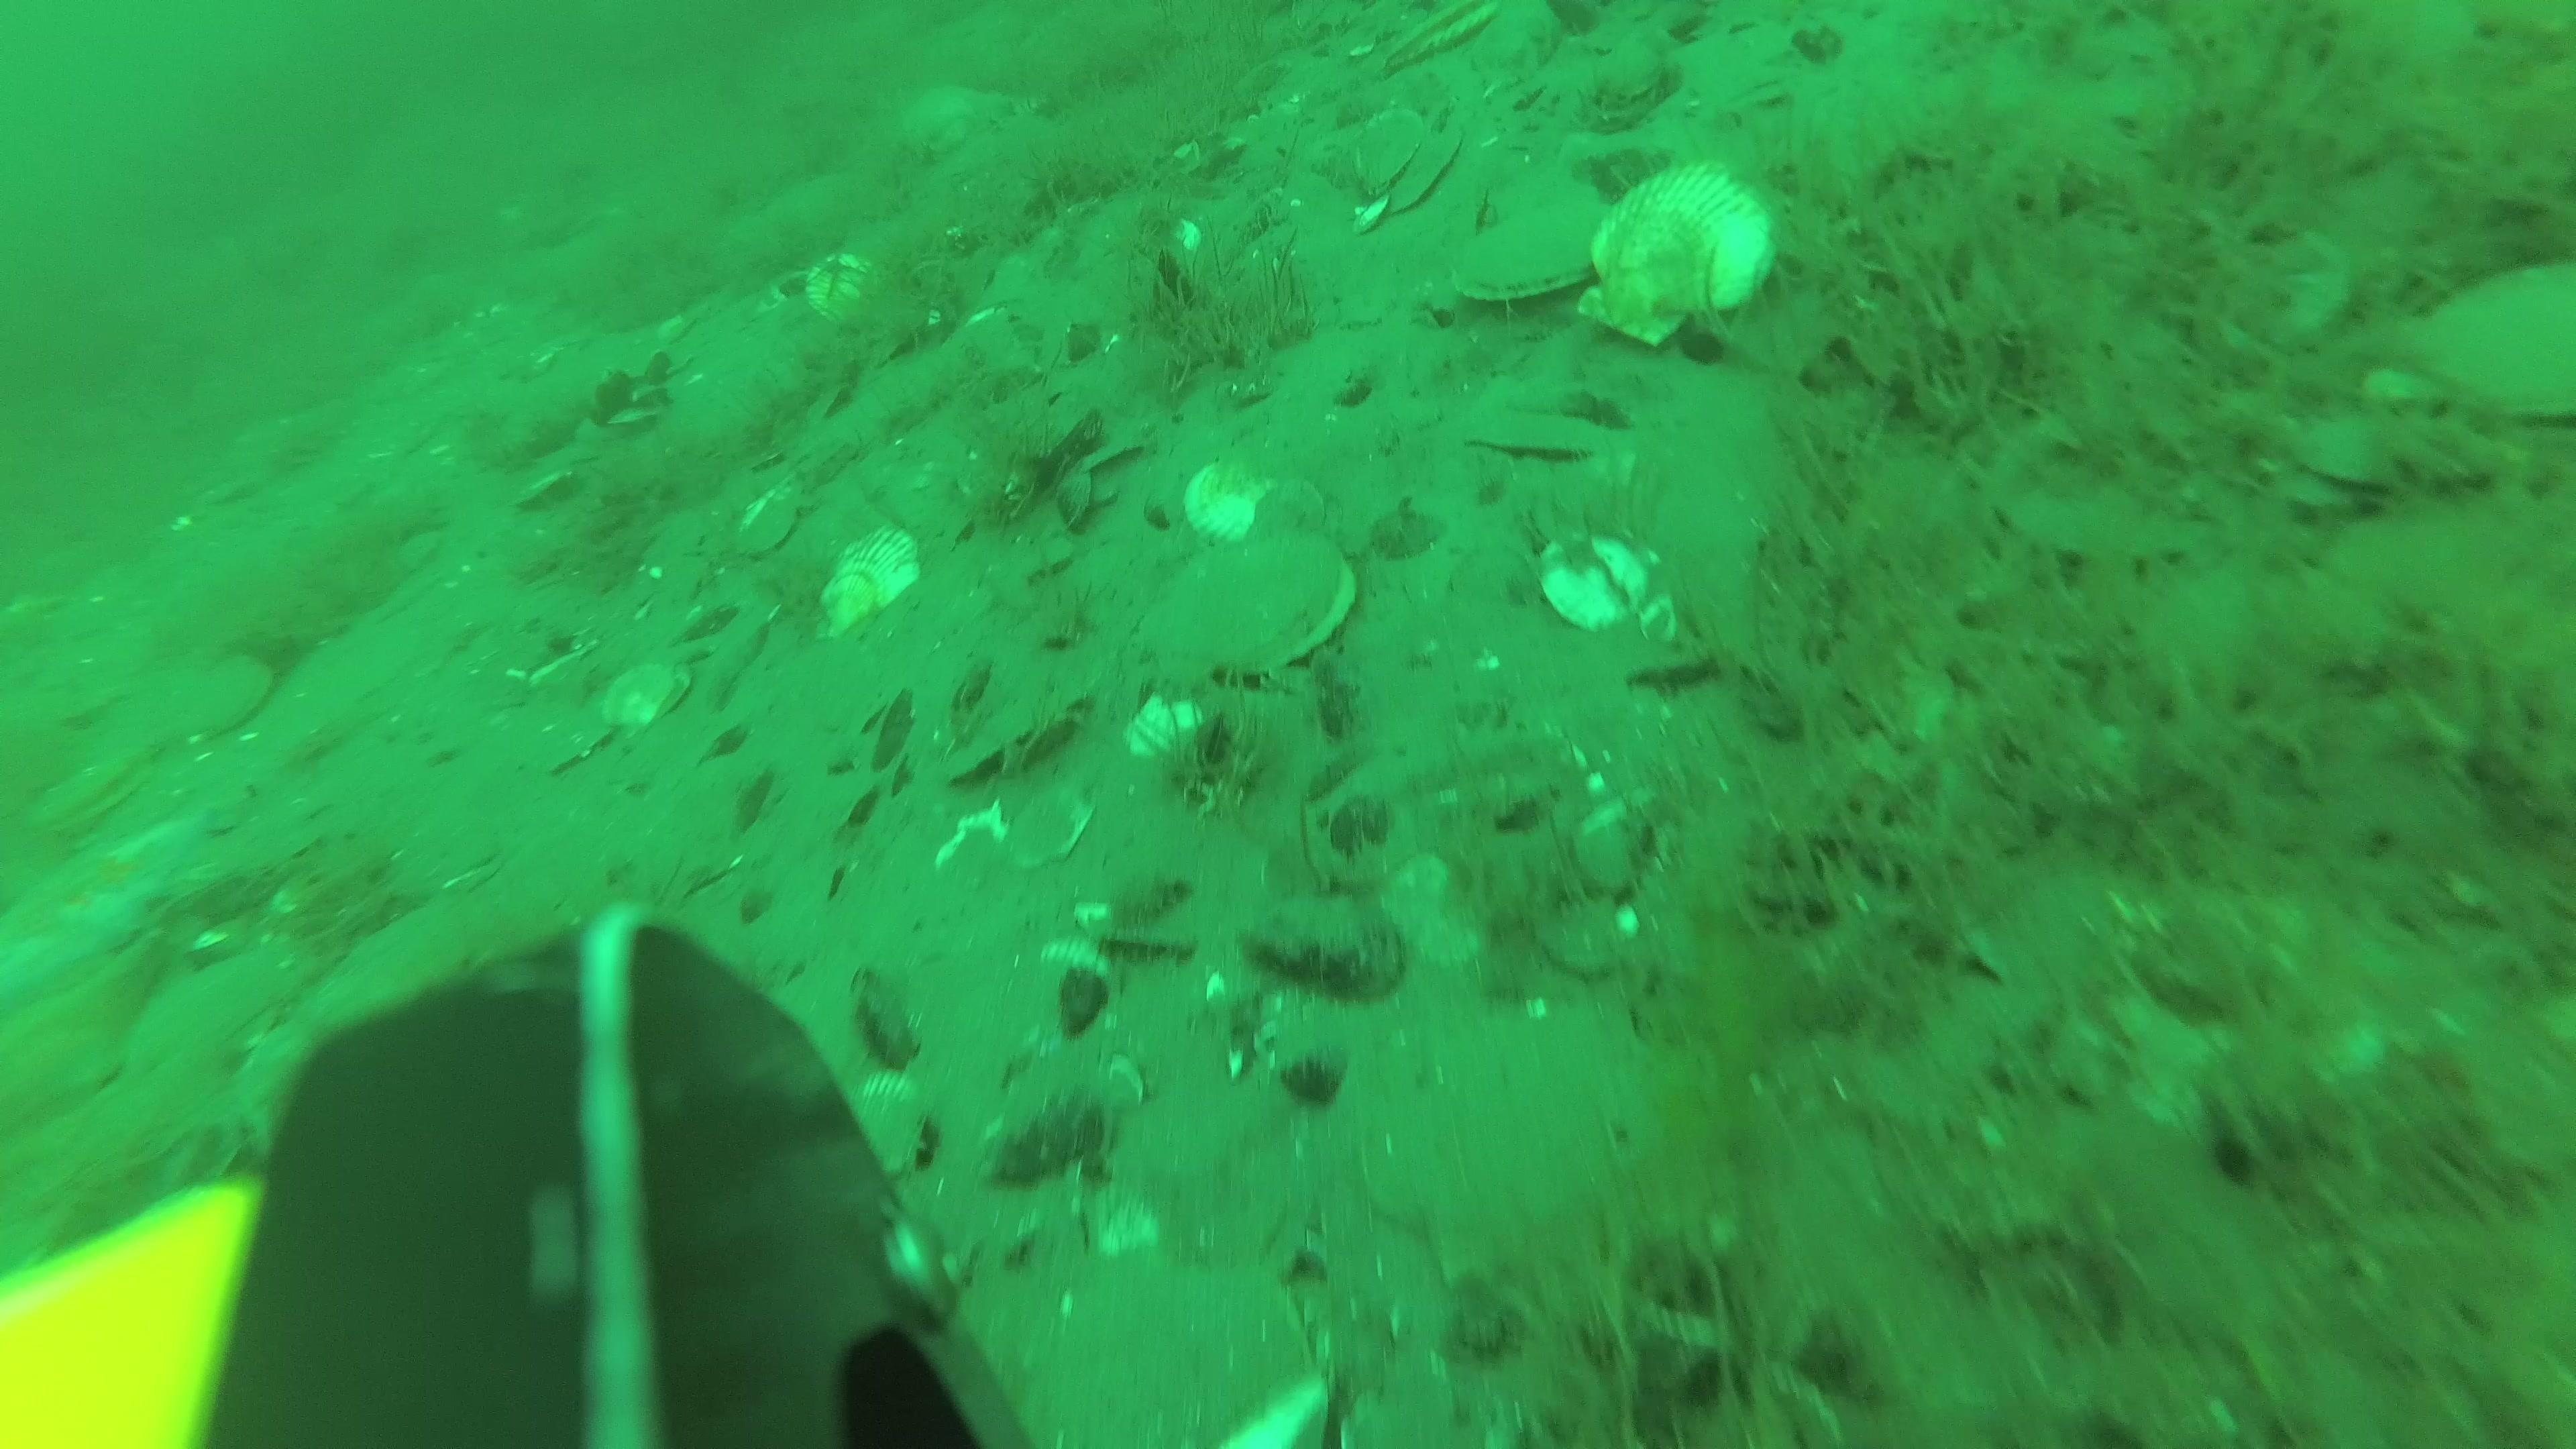scallop: (1576, 165, 1780, 340), (1159, 545, 1364, 699), (2410, 246, 2576, 421), (1185, 449, 1338, 550), (1453, 205, 1606, 301), (1541, 531, 1651, 628), (828, 529, 924, 640), (1380, 0, 1506, 78), (37, 752, 147, 835), (724, 467, 809, 557), (180, 655, 269, 740), (1385, 126, 1458, 219), (596, 662, 701, 725), (809, 248, 883, 322), (1359, 106, 1424, 189), (1249, 485, 1322, 559)
starfish: (2, 809, 219, 1003)
